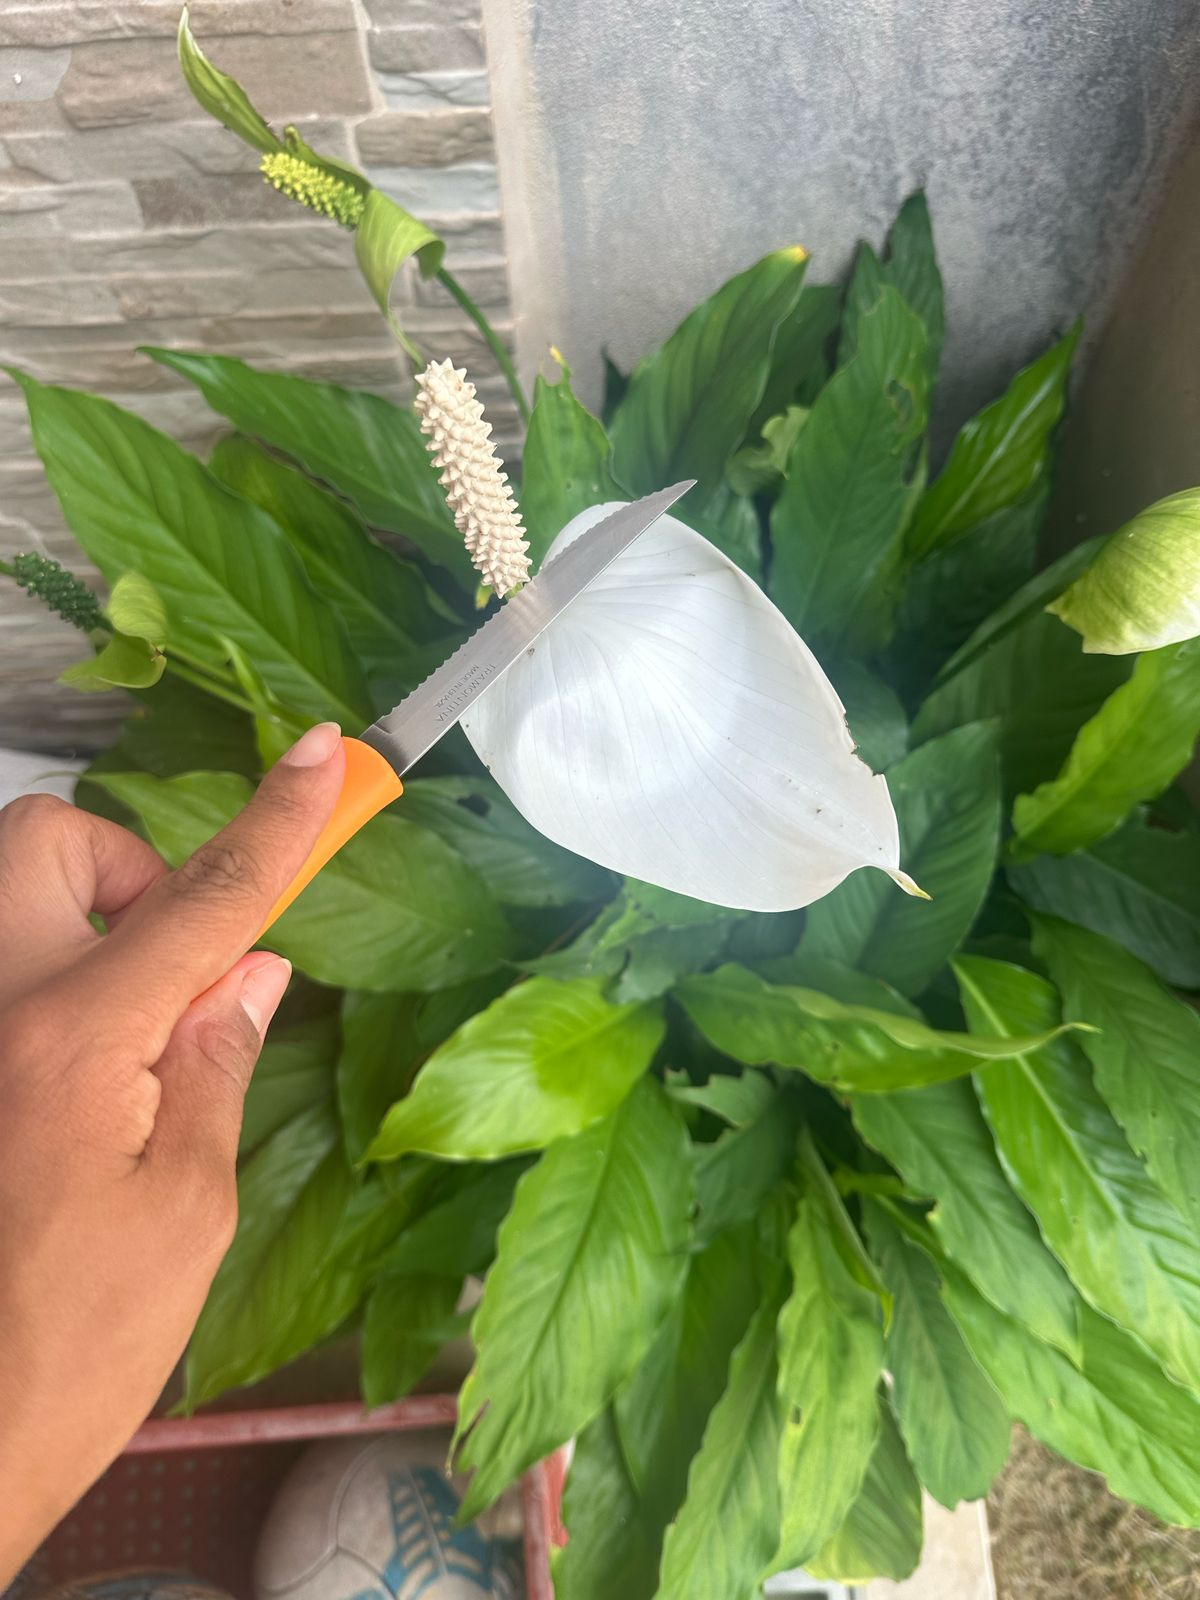faca: (219, 474, 702, 954)
